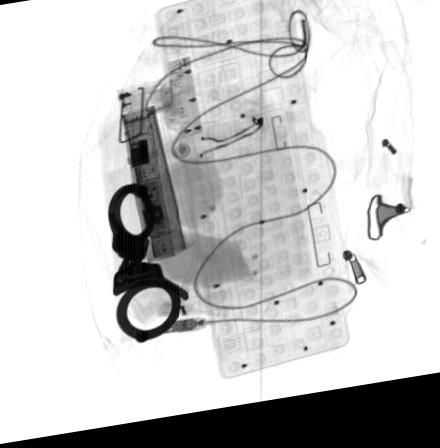Baton: (124, 117, 176, 266)
HandCuffs: (106, 186, 190, 347)
